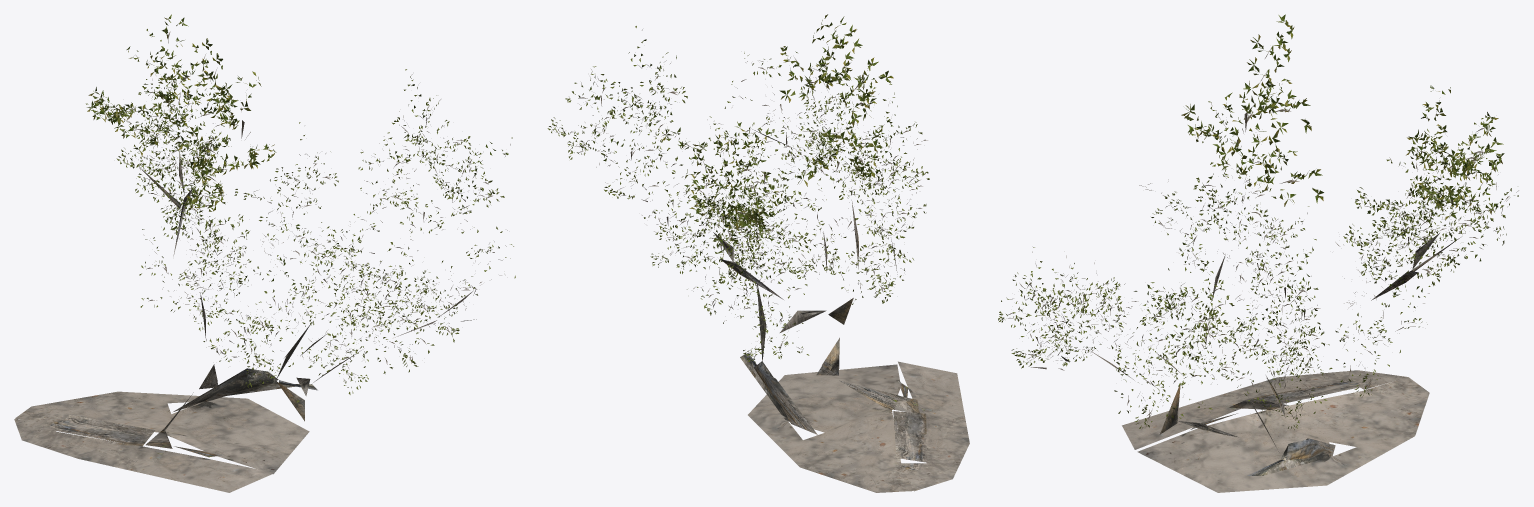
File: island_tree_03_lod1.gltf
The picture shows the model from 3 angles, left to right: view 1: azimuth 30°, elevation 25°; view 2: azimuth 150°, elevation 25°; view 3: azimuth 270°, elevation 25°; orthographic projection. The views are drawn at different scales.
Parts seen in each view (by area): view 1: island_tree_03_lod1; view 2: island_tree_03_lod1; view 3: island_tree_03_lod1.
Boxes of the visible parts, box(x1,y1,x2,y2) form: island_tree_03_lod1: box(14, 14, 515, 492); island_tree_03_lod1: box(547, 14, 969, 492); island_tree_03_lod1: box(998, 14, 1518, 492).
Size of the model in its own units: 2.94 by 2.61 by 2.84.
Materials: 3 (3 with a texture image).
